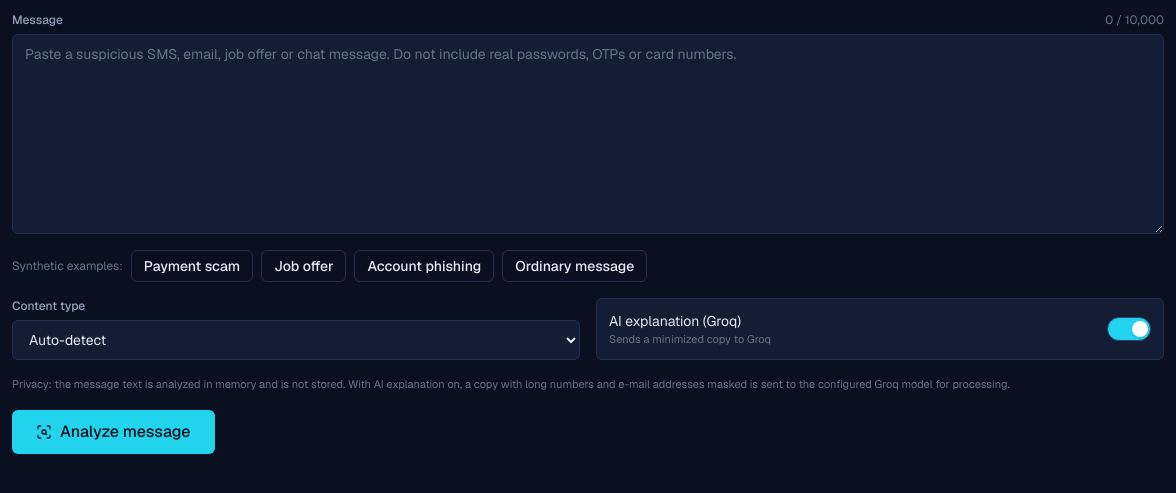
Scenario: MessageForm validation › rejects an empty message and does not submit
Step 1. Click the button "Analyze message" → [113, 432], box [12,410,215,454]
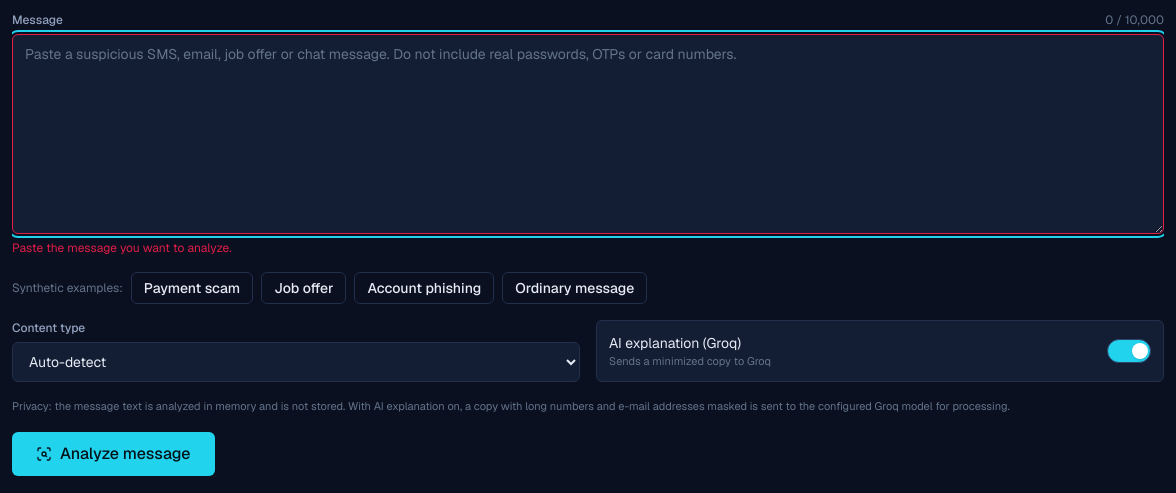
Result: the message shows "Paste the message" at [12,240,232,256]
